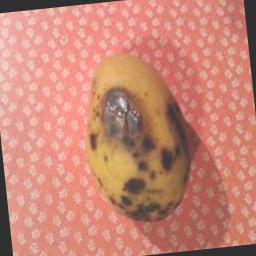Mango Rotten: (71, 42, 209, 238)
